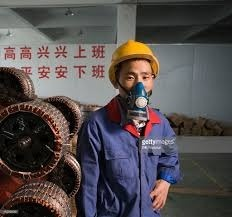helmet: (106, 39, 162, 89)
person with partial safety: (74, 40, 181, 216)
